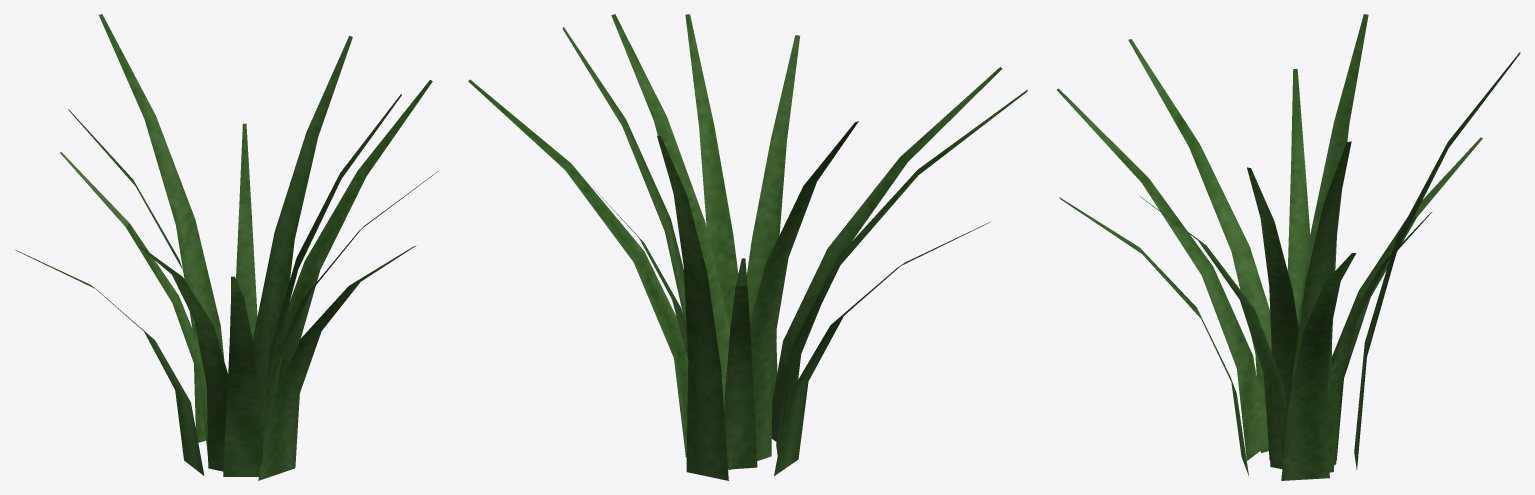
Rendered from grass_tuft_0.glb.
The picture shows the model from 3 angles, left to right: view 1: azimuth 30°, elevation 25°; view 2: azimuth 150°, elevation 25°; view 3: azimuth 270°, elevation 25°; orthographic projection. The views are drawn at different scales.
Visible parts, largest first — view 1: grass_tuft_0; view 2: grass_tuft_0; view 3: grass_tuft_0.
Boxes of the visible parts, x1,y1,x2,y2 form: grass_tuft_0: (15, 14, 438, 480); grass_tuft_0: (468, 14, 1027, 480); grass_tuft_0: (1057, 14, 1520, 480).
Size of the model in its own units: 0.7181 by 0.5785 by 0.621.
1 material, 1 textured.
